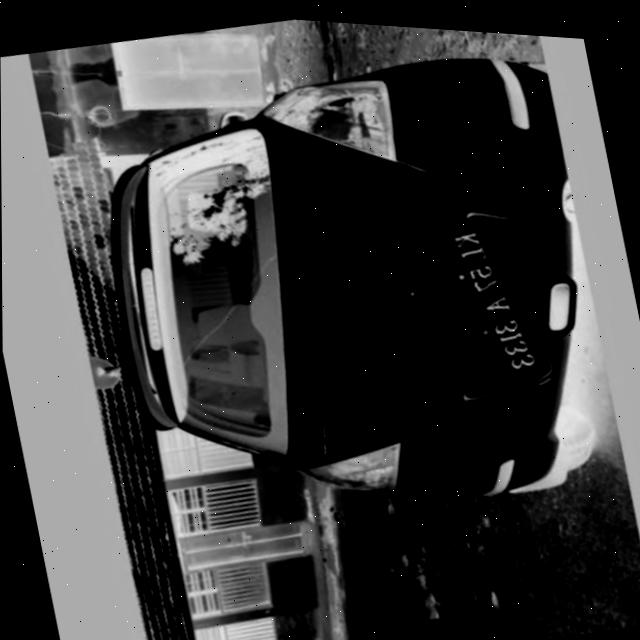Non_registered: (435, 204, 557, 391)
